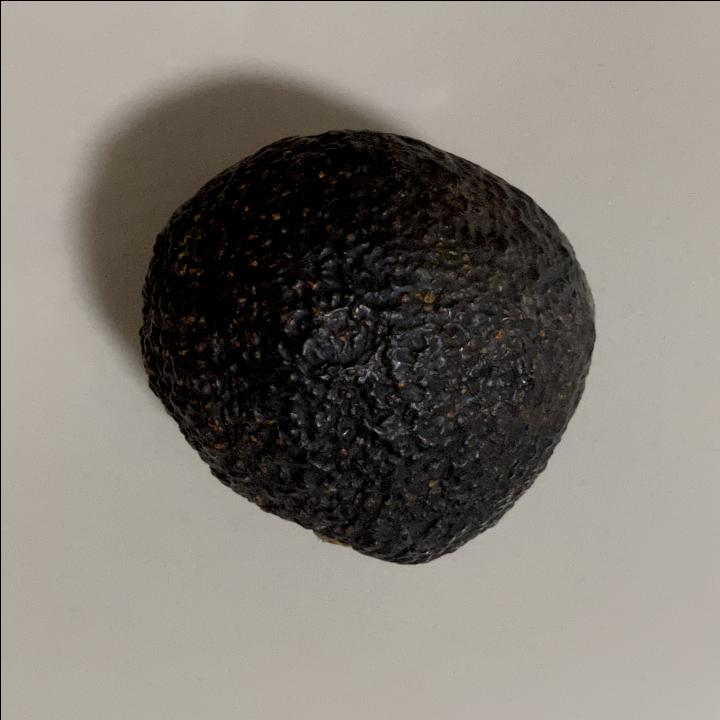Level2: (128, 124, 600, 566)
